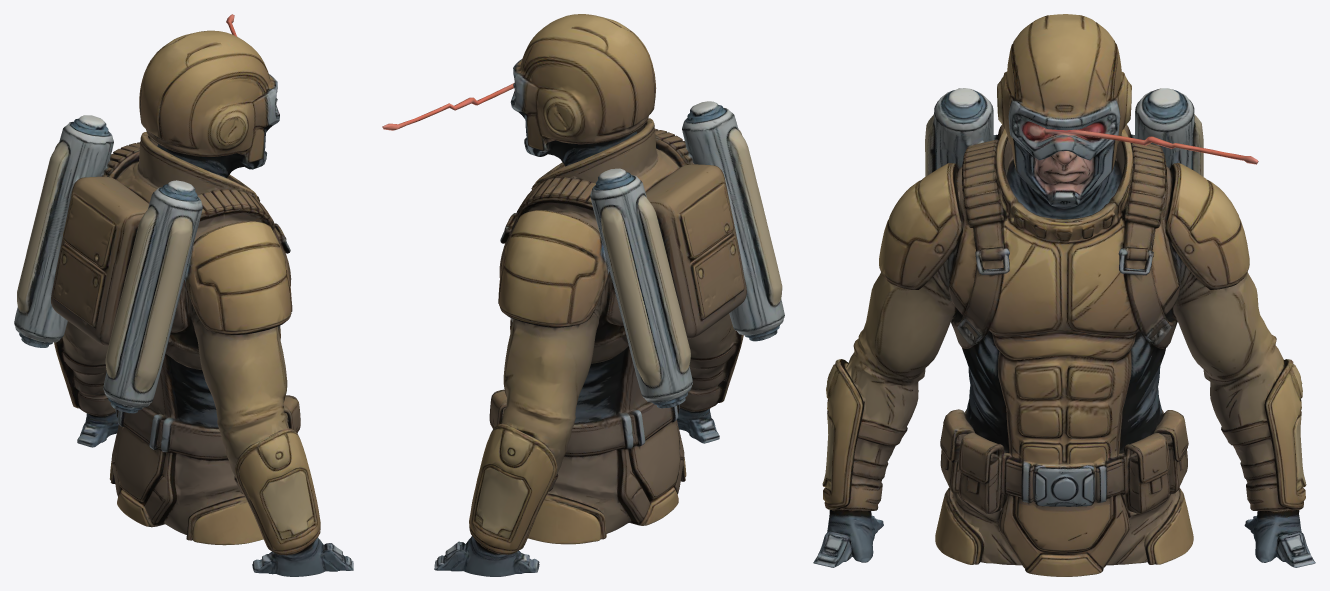
File: bountyhawk3d.glb
The picture shows the model from 3 angles, left to right: view 1: azimuth 30°, elevation 25°; view 2: azimuth 150°, elevation 25°; view 3: azimuth 270°, elevation 25°; orthographic projection. The views are drawn at different scales.
Parts seen in each view (by area): view 1: tripo_node_f720a14d-9341-44a0-85ac-e811376aa787; view 2: tripo_node_f720a14d-9341-44a0-85ac-e811376aa787; view 3: tripo_node_f720a14d-9341-44a0-85ac-e811376aa787.
Boxes of the visible parts, x1,y1,x2,y2 form: tripo_node_f720a14d-9341-44a0-85ac-e811376aa787: (14,14,353,576); tripo_node_f720a14d-9341-44a0-85ac-e811376aa787: (382,14,784,576); tripo_node_f720a14d-9341-44a0-85ac-e811376aa787: (813,14,1315,576).
Bounding box in the file's own units: 0.5841 × 1 × 0.8743.
Materials: 1 (1 with a texture image).
